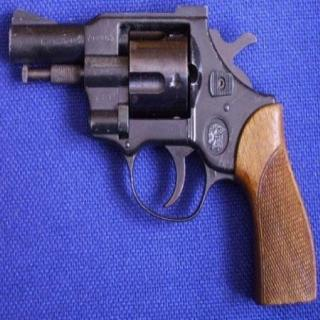gun: (7, 4, 314, 307)
